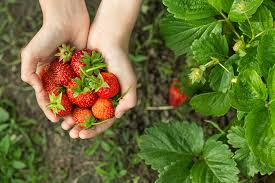ripe: (69, 49, 103, 80), (90, 71, 120, 100), (165, 78, 191, 110), (51, 57, 76, 88), (47, 91, 72, 118), (71, 108, 96, 129), (73, 90, 101, 108), (41, 70, 60, 94)
unripe: (91, 98, 116, 118)
